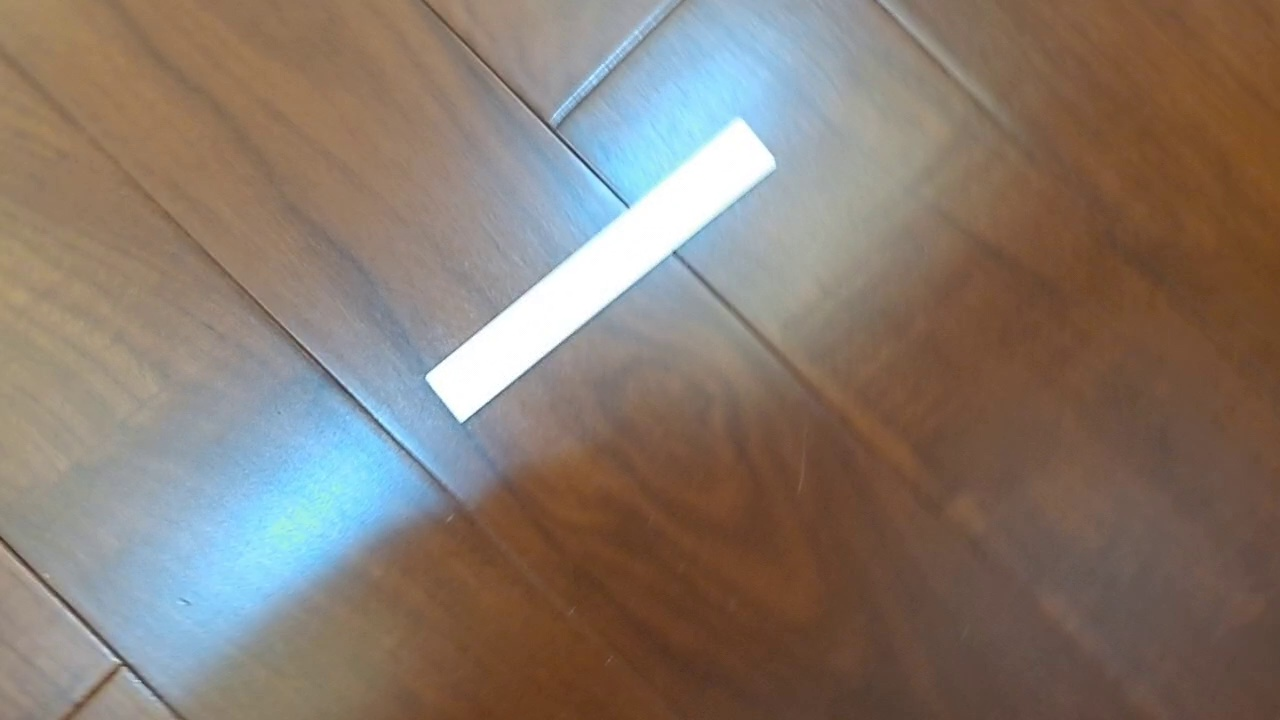ruler: (424, 116, 779, 425)
